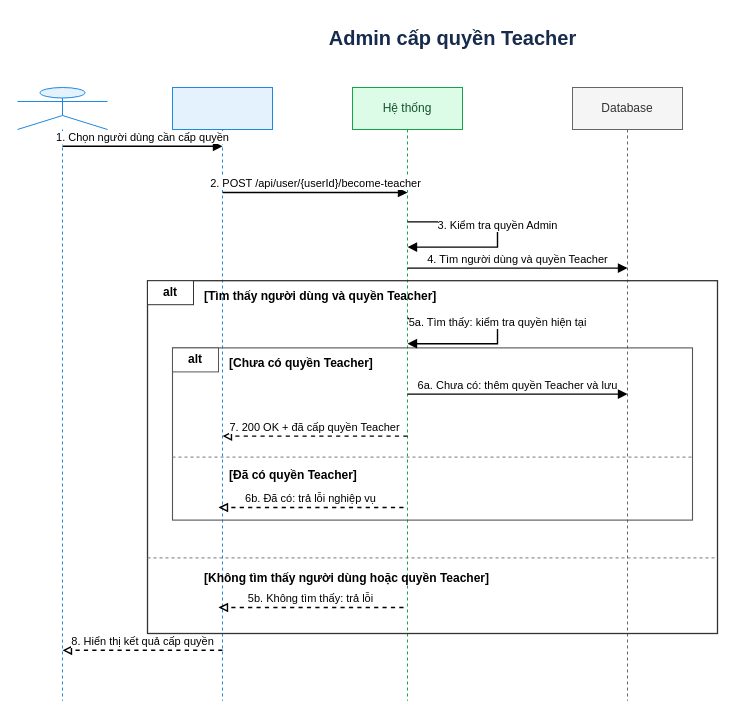
This 736x718 diagram has some shape labels left out. Each missing label, with the box of its shape:
Admin: (16, 86, 108, 701)
Giao diện: (172, 86, 272, 701)
